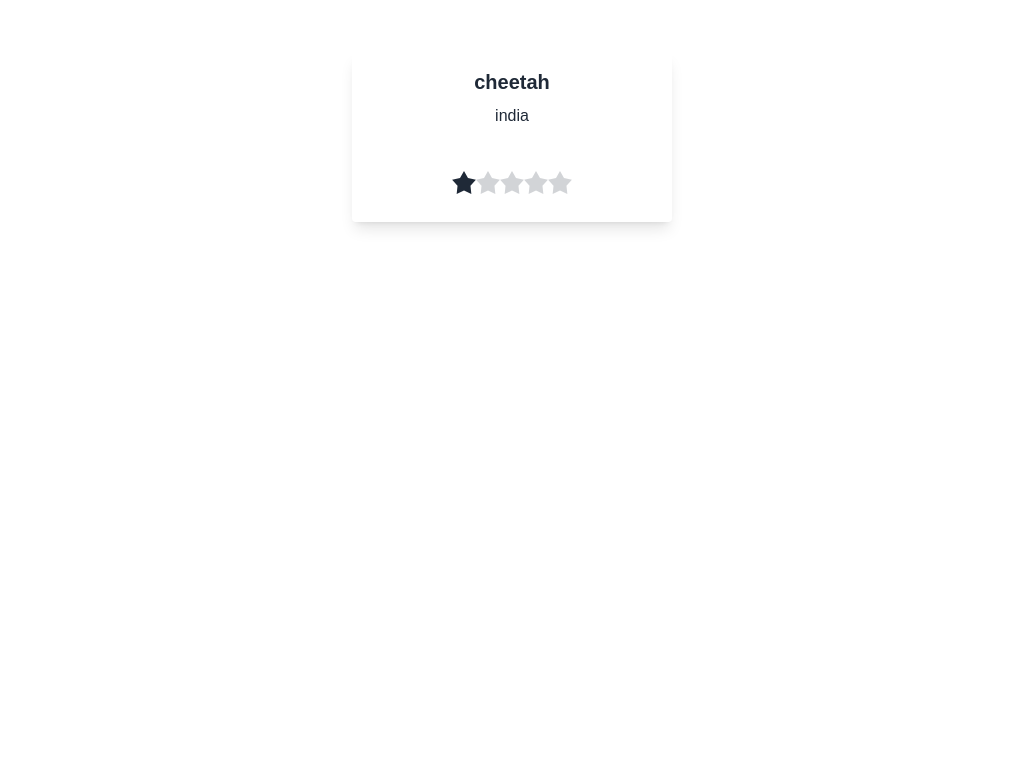
Scenario: AnimalCards - card Click
The image size is (1024, 768).
Click the element with test id "card". click: (512, 137)
box: [352, 52, 672, 222]
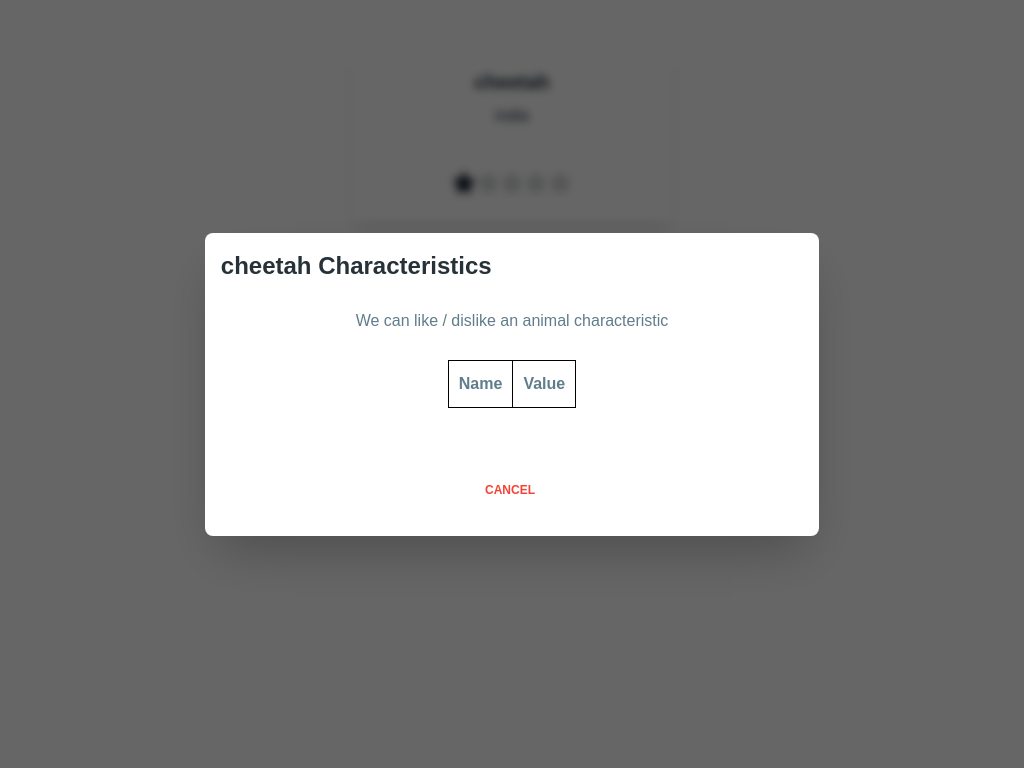
Check: the dialog is shown, box [205, 232, 819, 536]
